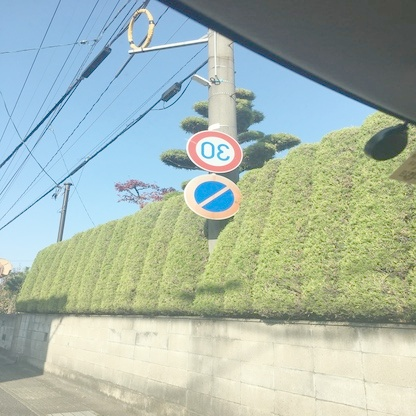Prohibition_sign: (180, 168, 244, 225)
Speed_sign: (185, 125, 247, 177)
